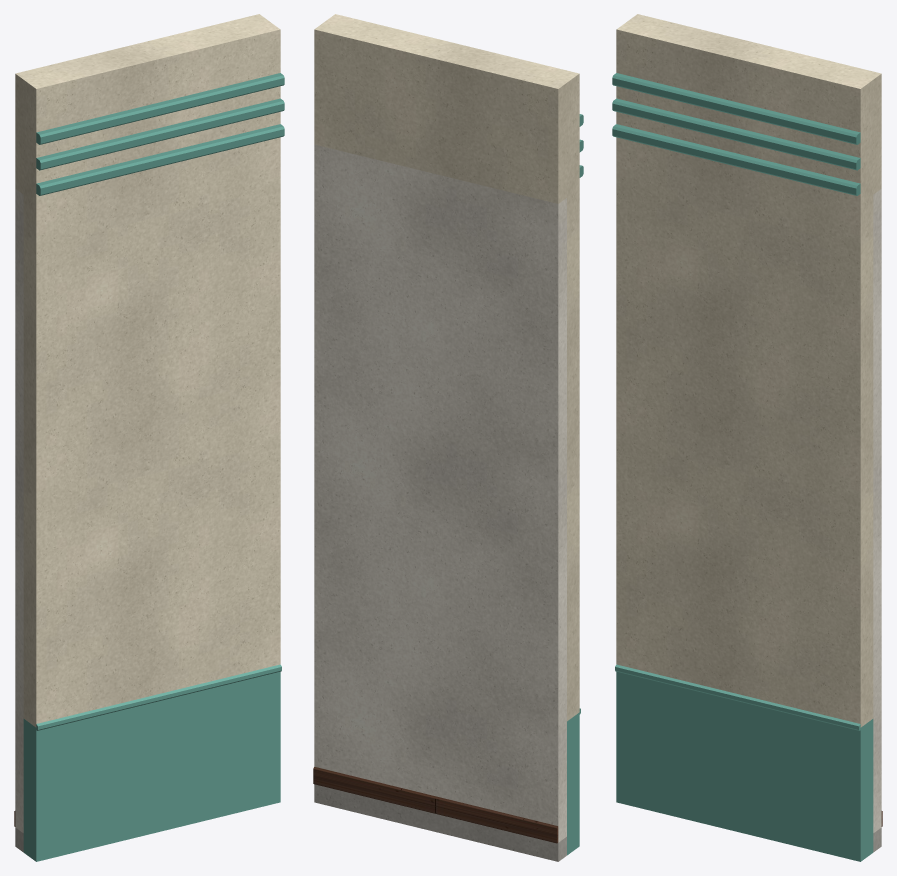
Rendered from w_plain.glb.
3 renders of one model, left to right at view 1: azimuth 30°, elevation 25°; view 2: azimuth 150°, elevation 25°; view 3: azimuth 330°, elevation 25°, orthographic.
Parts seen in each view (by area): view 1: w_plain_render, w_plain_tile_g, w_plain_trim_g, w_plain_plaster; view 2: w_plain_plaster, w_plain_render, w_plain_concrete, w_plain_dkwood, w_plain_tile_g; view 3: w_plain_render, w_plain_tile_g, w_plain_trim_g, w_plain_plaster.
Part boxes in pixels (<box>): w_plain_render: <box>15,14,280,727</box>; w_plain_tile_g: <box>23,664,281,861</box>; w_plain_trim_g: <box>36,73,284,195</box>; w_plain_plaster: <box>15,189,23,832</box>; w_plain_plaster: <box>314,144,566,842</box>; w_plain_render: <box>314,14,579,721</box>; w_plain_concrete: <box>314,784,566,861</box>; w_plain_dkwood: <box>313,766,558,843</box>; w_plain_tile_g: <box>567,708,580,855</box>; w_plain_render: <box>616,14,881,727</box>; w_plain_tile_g: <box>615,664,873,861</box>; w_plain_trim_g: <box>612,73,860,195</box>; w_plain_plaster: <box>873,189,881,832</box>.
Bounding box in the file's own units: 2 × 6.05 × 0.376.
6 materials, 4 textured.
